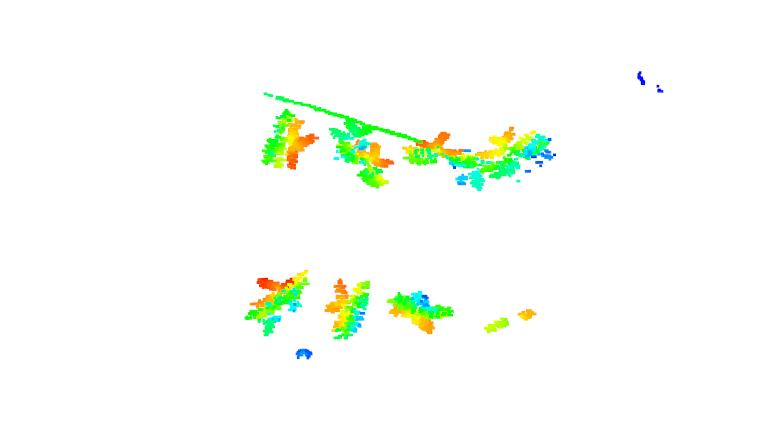chickpea: (455, 120, 559, 188), (246, 264, 313, 337), (259, 104, 318, 174), (386, 285, 456, 336), (333, 131, 390, 190), (325, 276, 374, 340), (398, 127, 470, 166), (479, 304, 537, 335)
